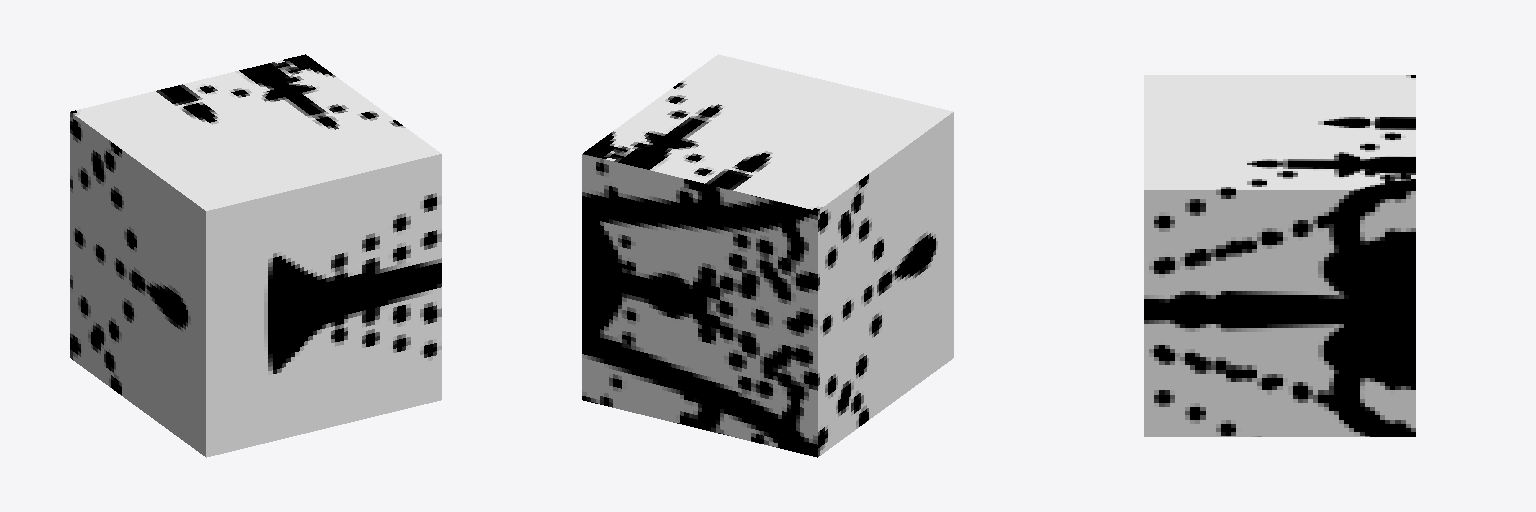
3 renders of one model, left to right at view 1: azimuth 30°, elevation 25°; view 2: azimuth 150°, elevation 25°; view 3: azimuth 270°, elevation 25°, orthographic.
Parts seen in each view (by area): view 1: Cube; view 2: Cube; view 3: Cube.
Boxes of the visible parts, x1=… form: Cube: x1=70, y1=54, x2=441, y2=457; Cube: x1=582, y1=54, x2=953, y2=457; Cube: x1=1144, y1=75, x2=1415, y2=436.
Size of the model in its own units: 2 by 2 by 2.
Materials: 1 (1 with a texture image).